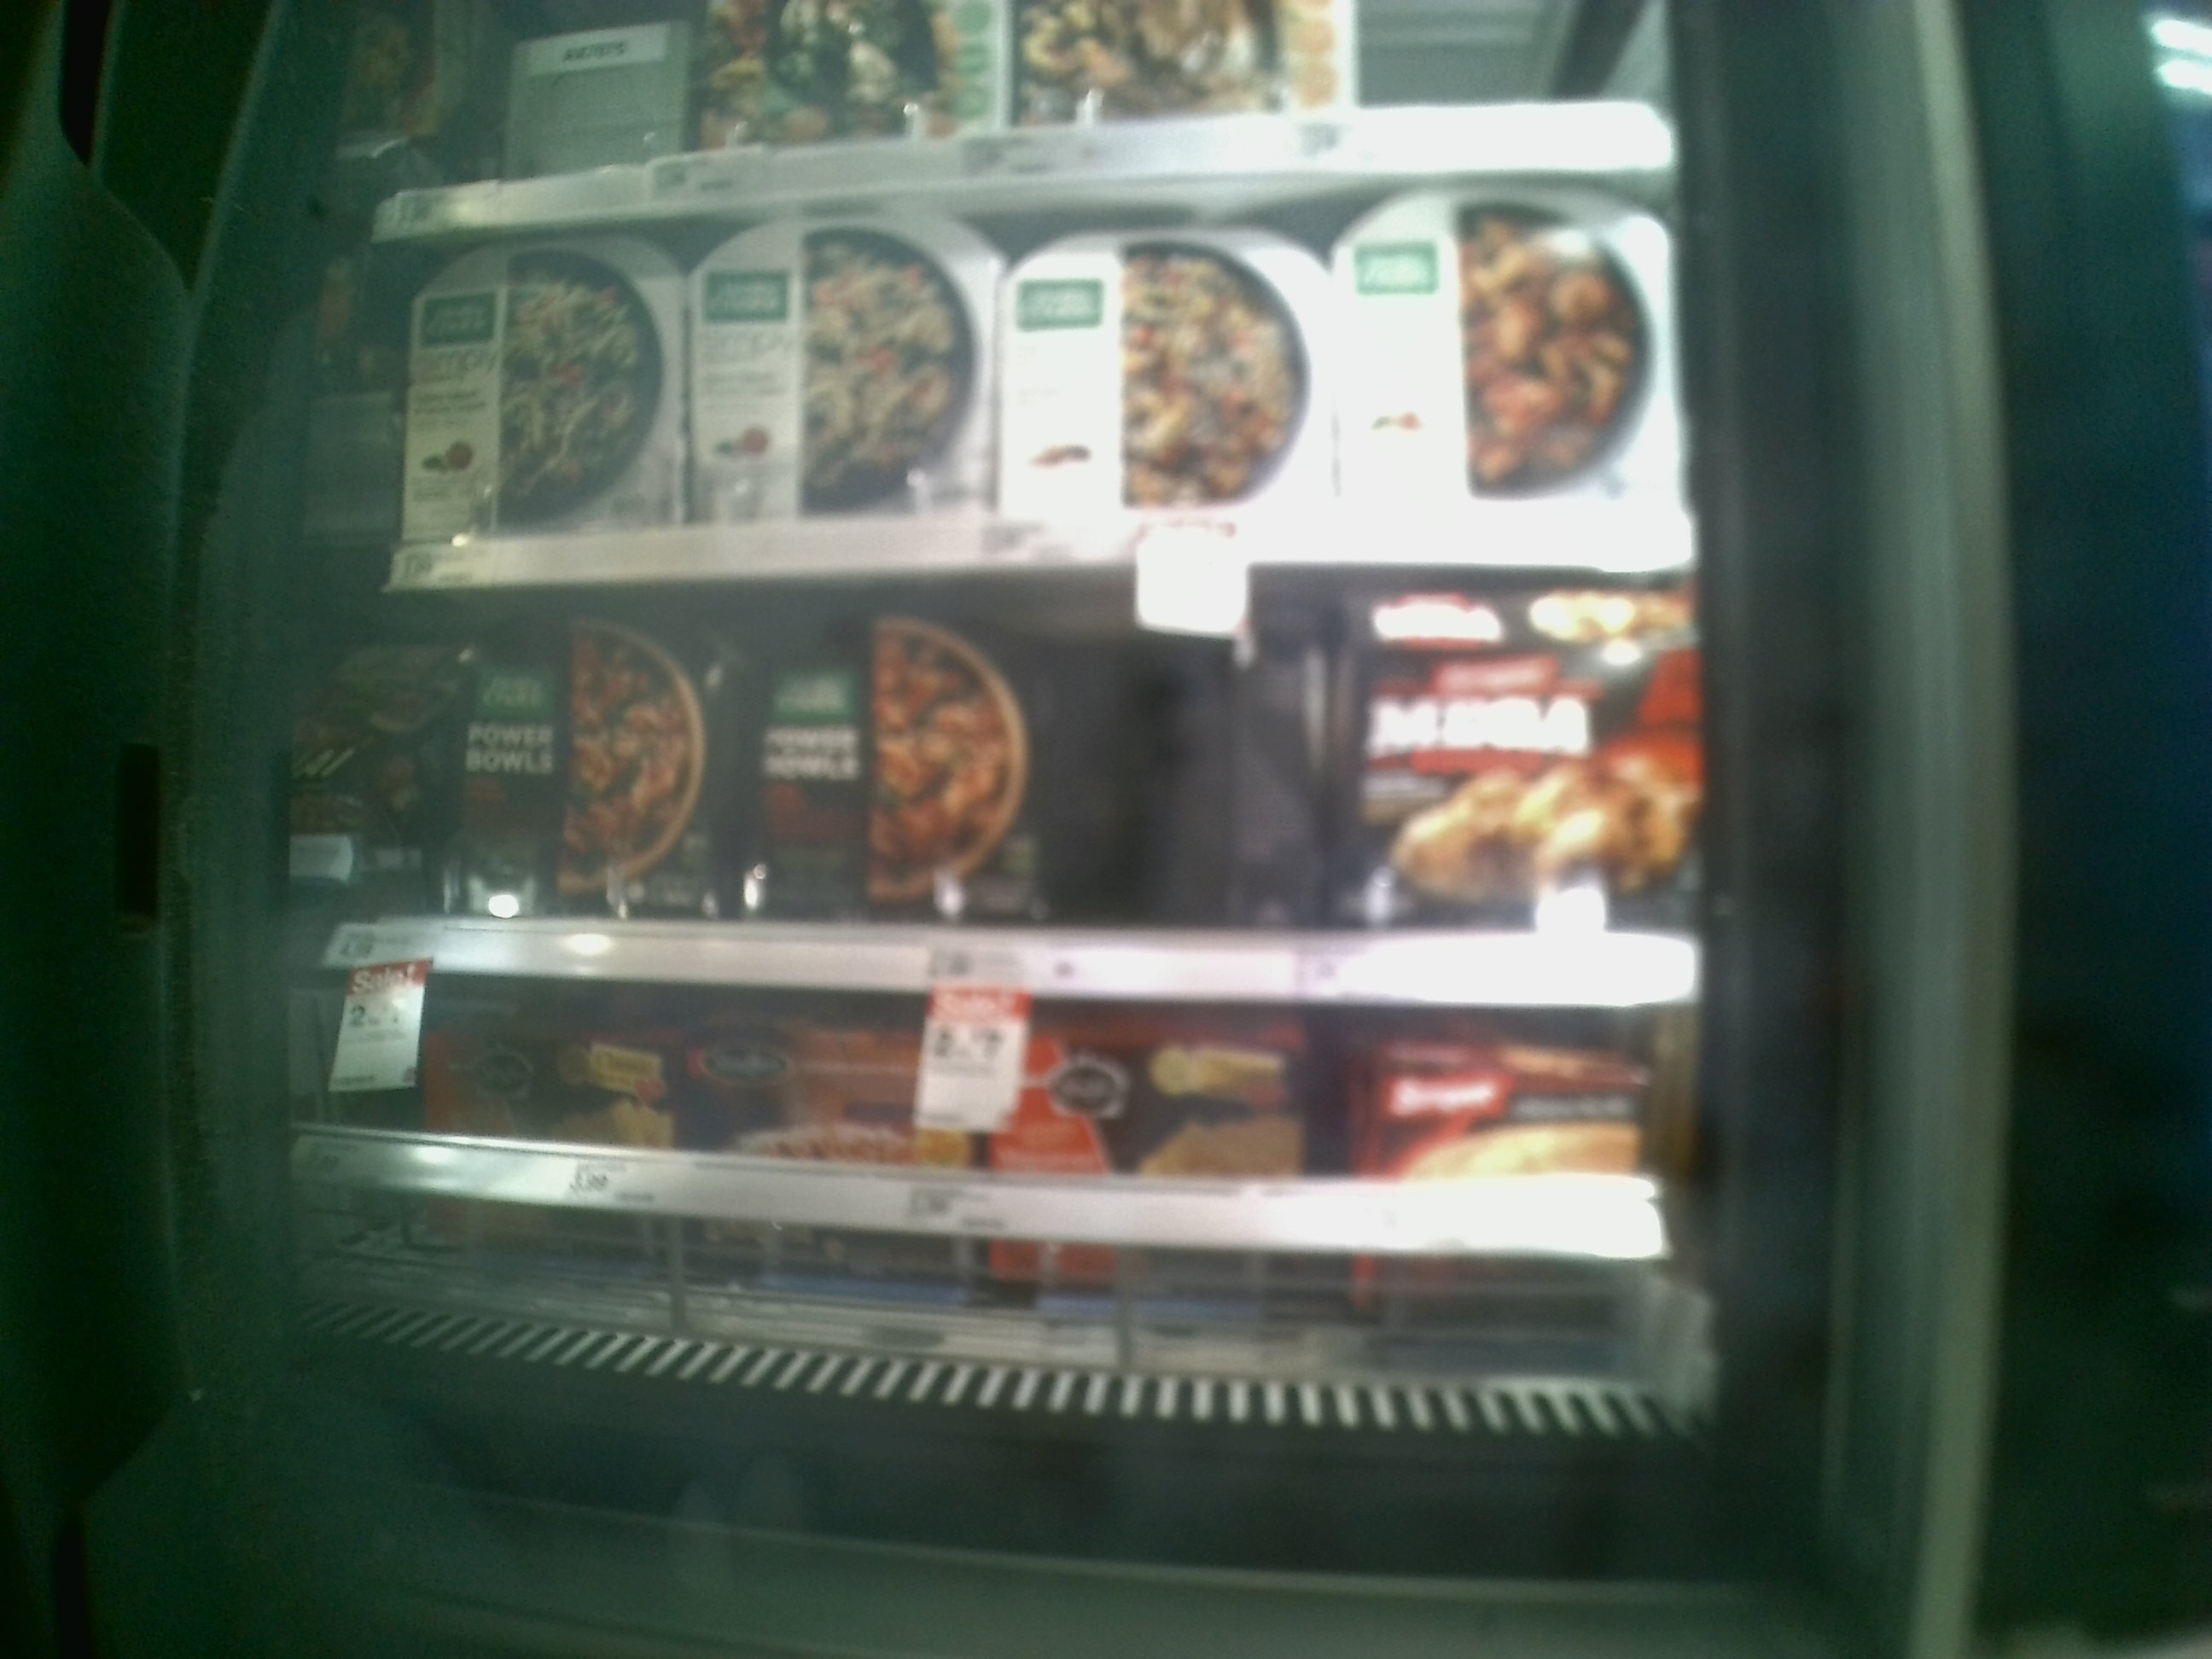pizza: (1336, 591, 1696, 918), (1339, 188, 1686, 507), (711, 606, 1057, 904), (698, 214, 995, 523), (1000, 228, 1325, 502), (448, 598, 704, 929), (415, 239, 678, 523)
